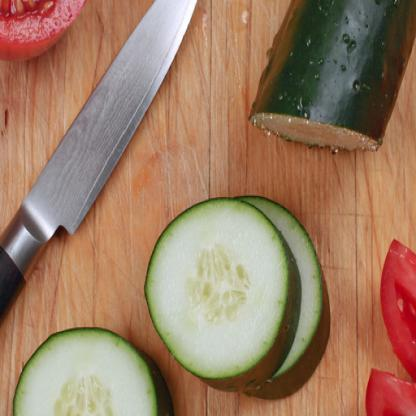knife: (0, 0, 209, 415)
